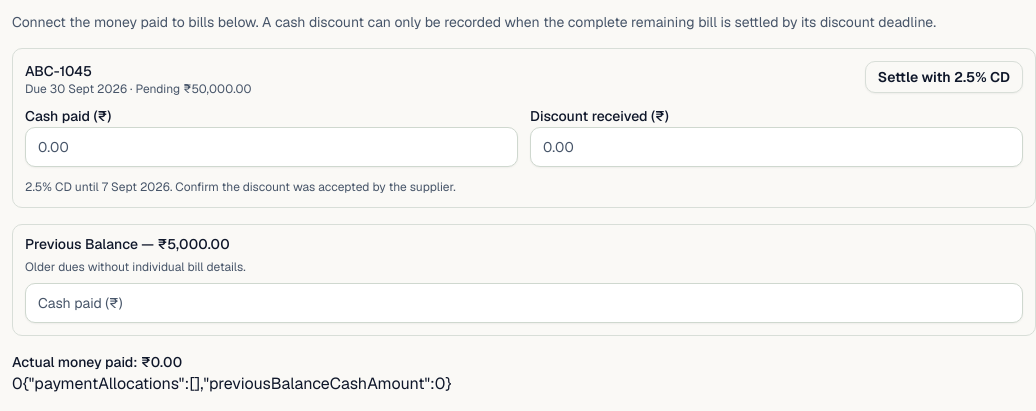
it: Supplier payment form › allocates partial cash and Previous Balance without inventing a discount
In the number field labelled "Cash paid (₹)": (272, 147) top-left (25, 127), bottom-right (518, 167), type "20000"
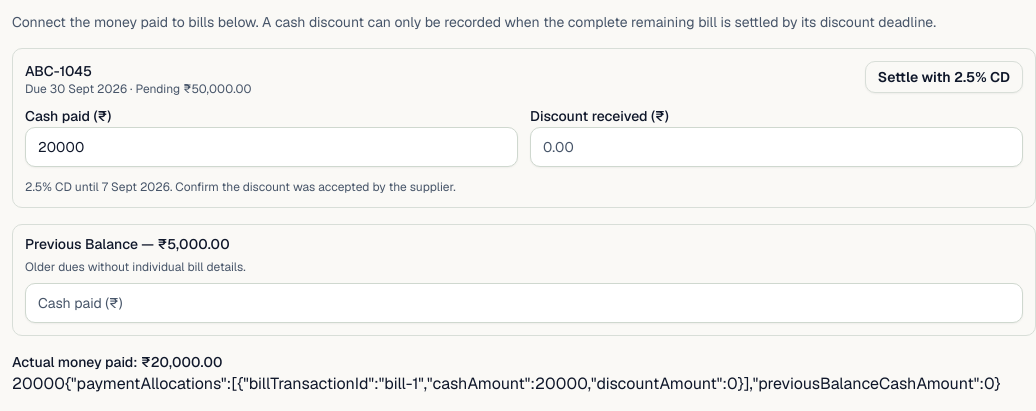
In the number field labelled "Previous Balance — ₹5,000.00": (524, 303) top-left (25, 283), bottom-right (1023, 323), type "2500"
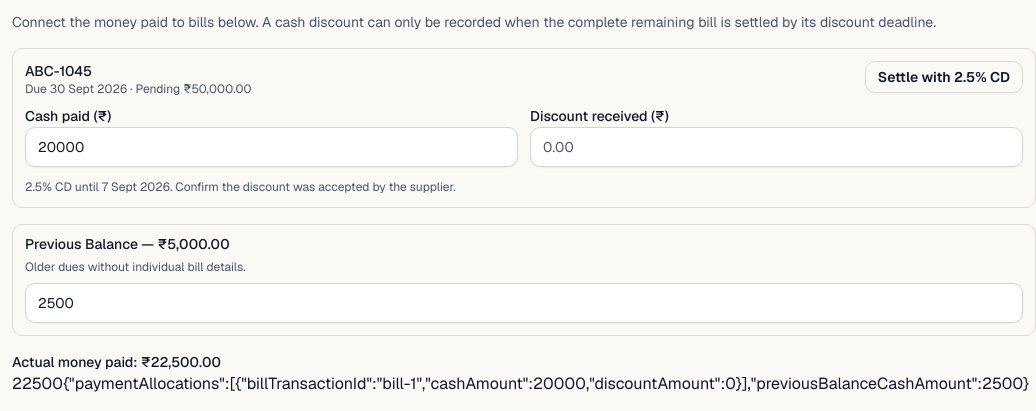
expect the text with test id "cash-total" reads "22500": met, box top-left (12, 373), bottom-right (63, 394)
